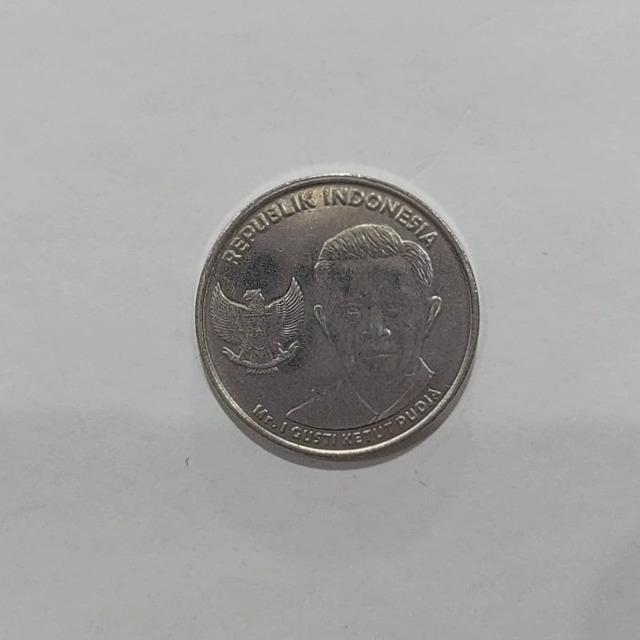Rp100: (193, 170, 481, 466)
